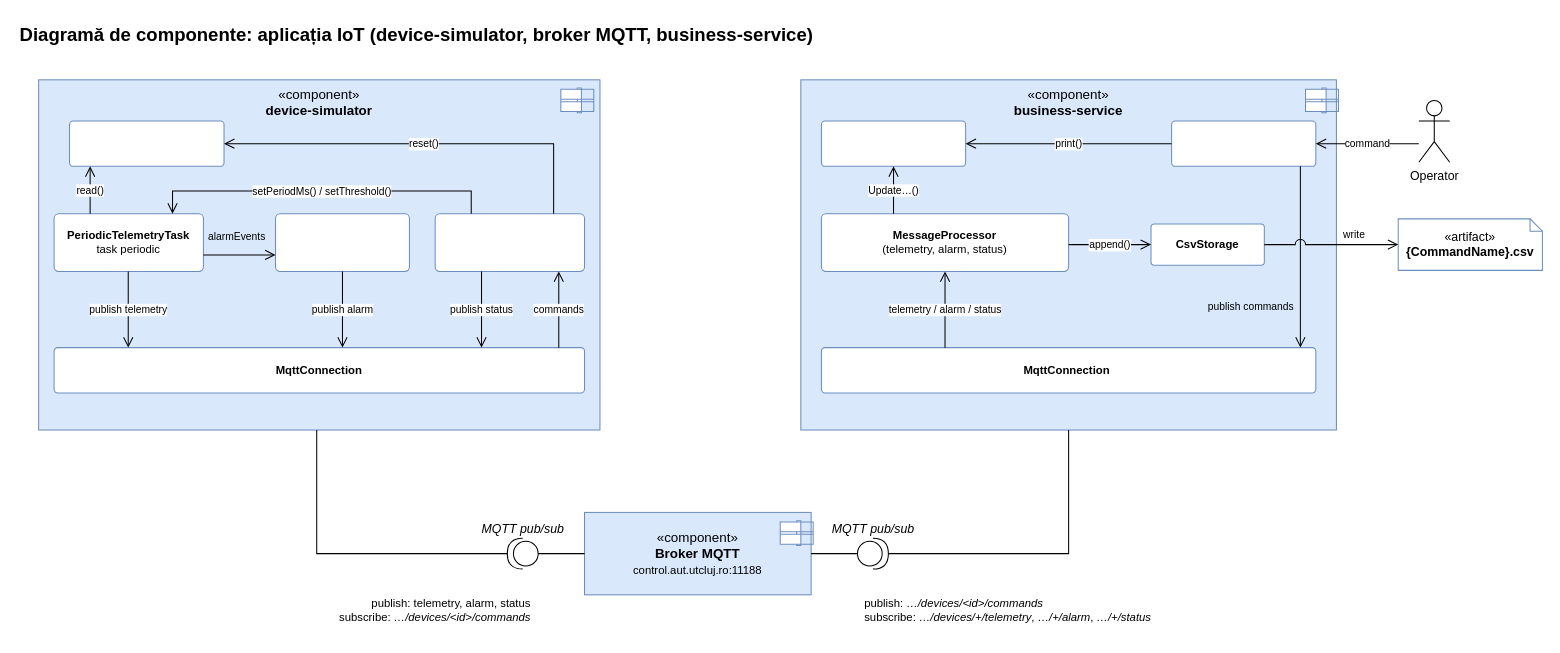
Some shapes in this 1560 by 653 pixel diagram are drawn without their labels. The centre of each missing label's shape, as x and y in pixels:
AperiodicCommandTask task aperiodic: (509,242)
CommandConsole: (1243,143)
Dashboard: (893,143)
SporadicAlarmTask task sporadic: (341,242)
TemperatureSensor: (146,143)
